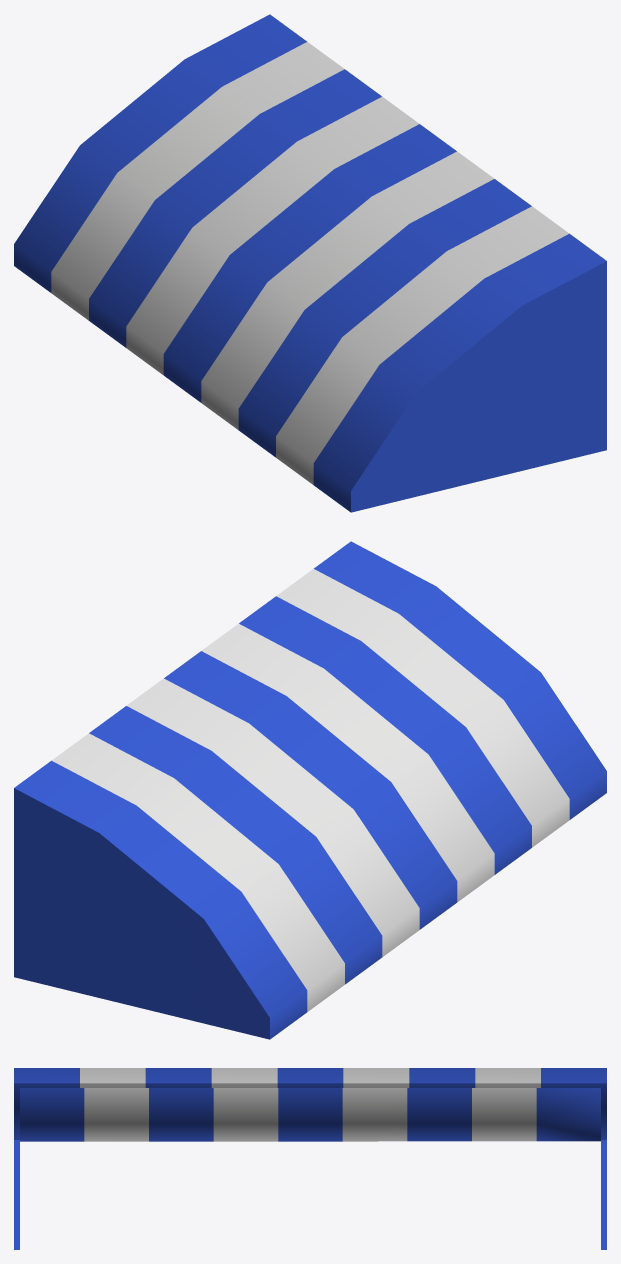
Rendered from Awning_1_I.fbx.
3 renders of one model, top to bottom at view 1: azimuth 30°, elevation 25°; view 2: azimuth 150°, elevation 25°; view 3: azimuth 270°, elevation 25°, orthographic. The views are drawn at different scales.
Parts seen in each view (by area): view 1: Awning_1_I; view 2: Awning_1_I; view 3: Awning_1_I.
Part boxes in pixels (bbox=[...]): Awning_1_I: bbox=[14, 14, 606, 512]; Awning_1_I: bbox=[14, 541, 606, 1039]; Awning_1_I: bbox=[14, 1068, 606, 1249].
Bounding box in the file's own units: 123 × 86.57 × 280.
